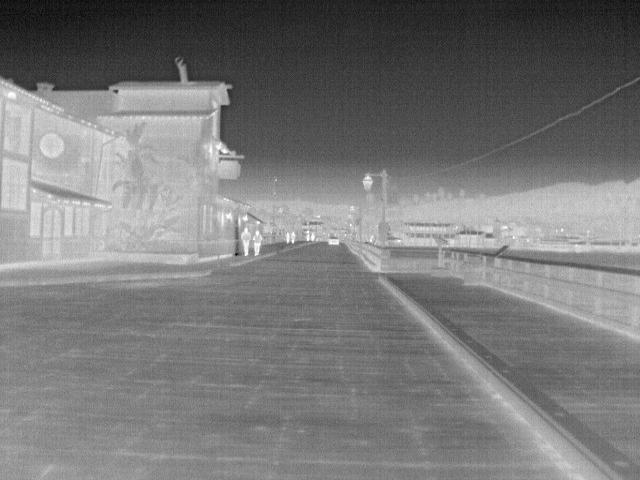car: (326, 235, 341, 246)
person: (240, 225, 253, 260), (252, 228, 264, 258), (288, 228, 297, 246), (283, 228, 290, 246)
